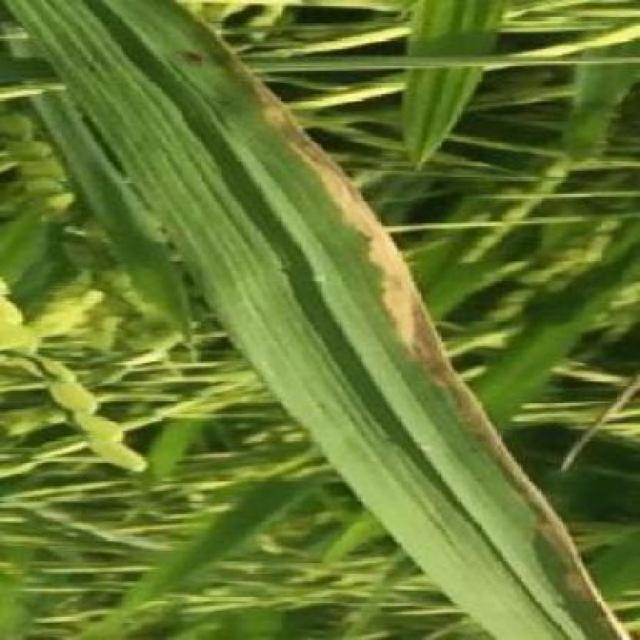Brown_Spot: (227, 136, 495, 570)
